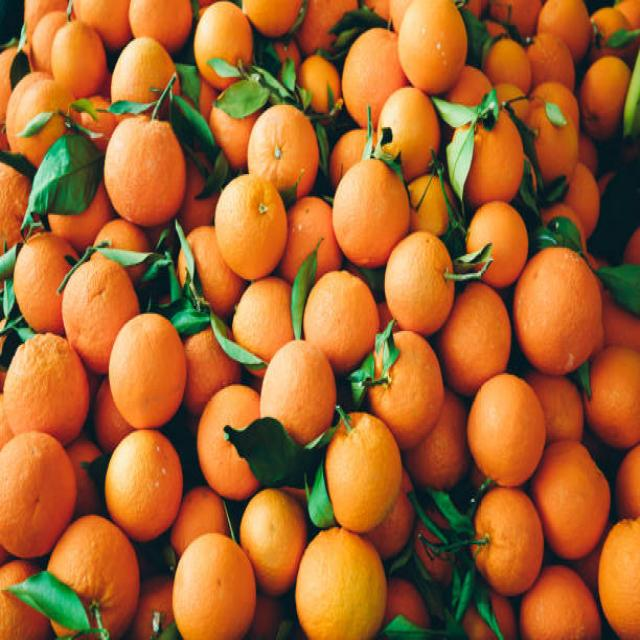Orange: (511, 245, 602, 368), (294, 527, 387, 640), (108, 309, 189, 427), (59, 517, 139, 633), (104, 115, 186, 224), (469, 370, 544, 486), (174, 531, 253, 640), (2, 338, 90, 433), (323, 418, 400, 526), (540, 434, 604, 558), (103, 428, 182, 528), (470, 484, 542, 592), (0, 430, 55, 554), (216, 178, 287, 274), (373, 332, 443, 429), (301, 268, 379, 354), (385, 232, 452, 332), (258, 338, 333, 426), (334, 155, 388, 268), (449, 277, 511, 374), (246, 102, 318, 182), (586, 341, 640, 445), (523, 562, 595, 640), (197, 385, 248, 495), (246, 485, 296, 597), (597, 511, 640, 640), (399, 0, 462, 87), (63, 252, 137, 324), (193, 0, 251, 87), (379, 85, 439, 167), (114, 34, 176, 109), (232, 278, 294, 352), (463, 202, 523, 278), (49, 19, 108, 93), (342, 26, 394, 108), (473, 119, 521, 200), (582, 54, 627, 133), (530, 30, 572, 85)
